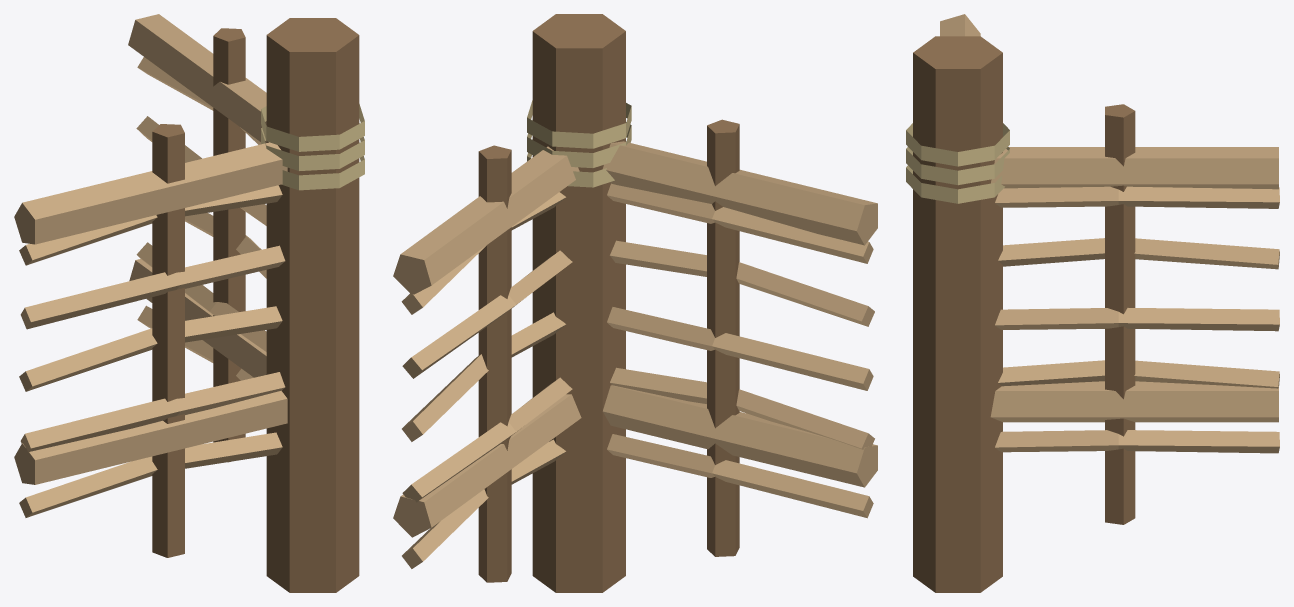
File: pen_fence_09.glb
3 views of the same model, side by side, from view 1: azimuth 30°, elevation 25°; view 2: azimuth 150°, elevation 25°; view 3: azimuth 270°, elevation 25° (orthographic). The views are drawn at different scales.
Visible parts, largest first — view 1: pen_fence_09; view 2: pen_fence_09; view 3: pen_fence_09.
Boxes of the visible parts, x1,y1,x2,y2 form: pen_fence_09: (14, 14, 364, 592); pen_fence_09: (393, 14, 877, 592); pen_fence_09: (906, 14, 1279, 592).
Size of the model in its own units: 0.5823 by 0.9 by 0.5823.
